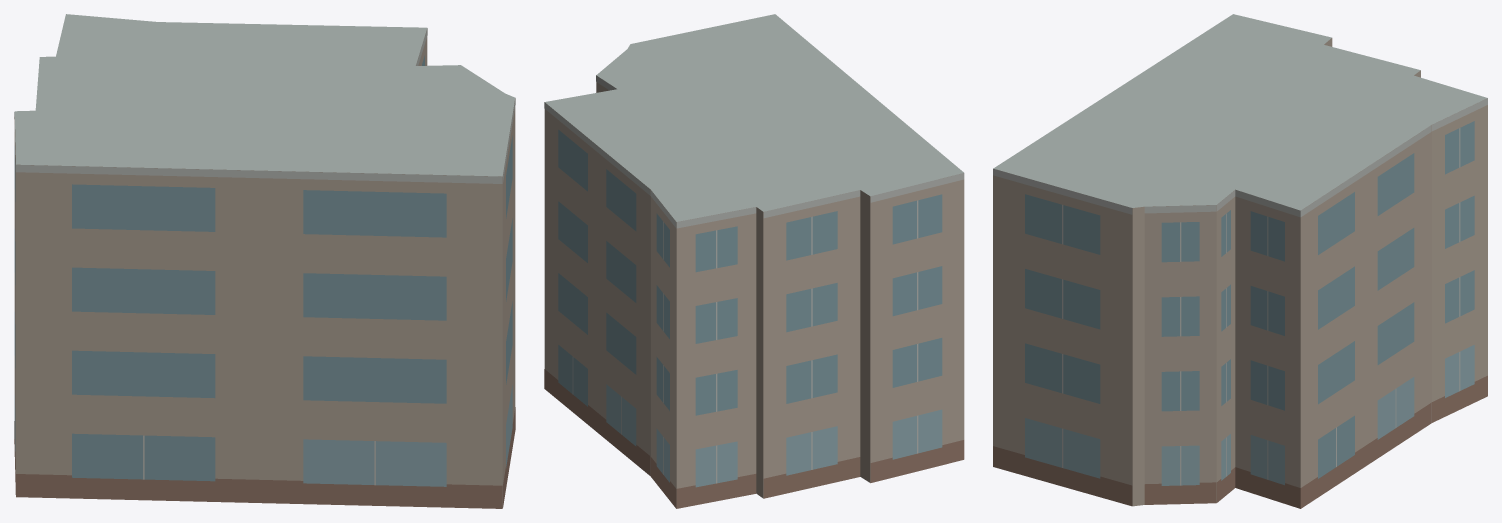
The model's file is survey-upis-33023733.glb.
3 views of the same model, side by side, from view 1: azimuth 30°, elevation 25°; view 2: azimuth 150°, elevation 25°; view 3: azimuth 270°, elevation 25° (orthographic). The views are drawn at different scales.
Visible parts, largest first — view 1: survey-upis-33023733.tmp; view 2: survey-upis-33023733.tmp; view 3: survey-upis-33023733.tmp.
Part boxes in pixels (x1,y1,x2,y2): survey-upis-33023733.tmp: (14, 14, 515, 508); survey-upis-33023733.tmp: (544, 14, 964, 508); survey-upis-33023733.tmp: (993, 14, 1487, 508).
Size of the model in its own units: 15.13 by 10.7 by 16.09.
